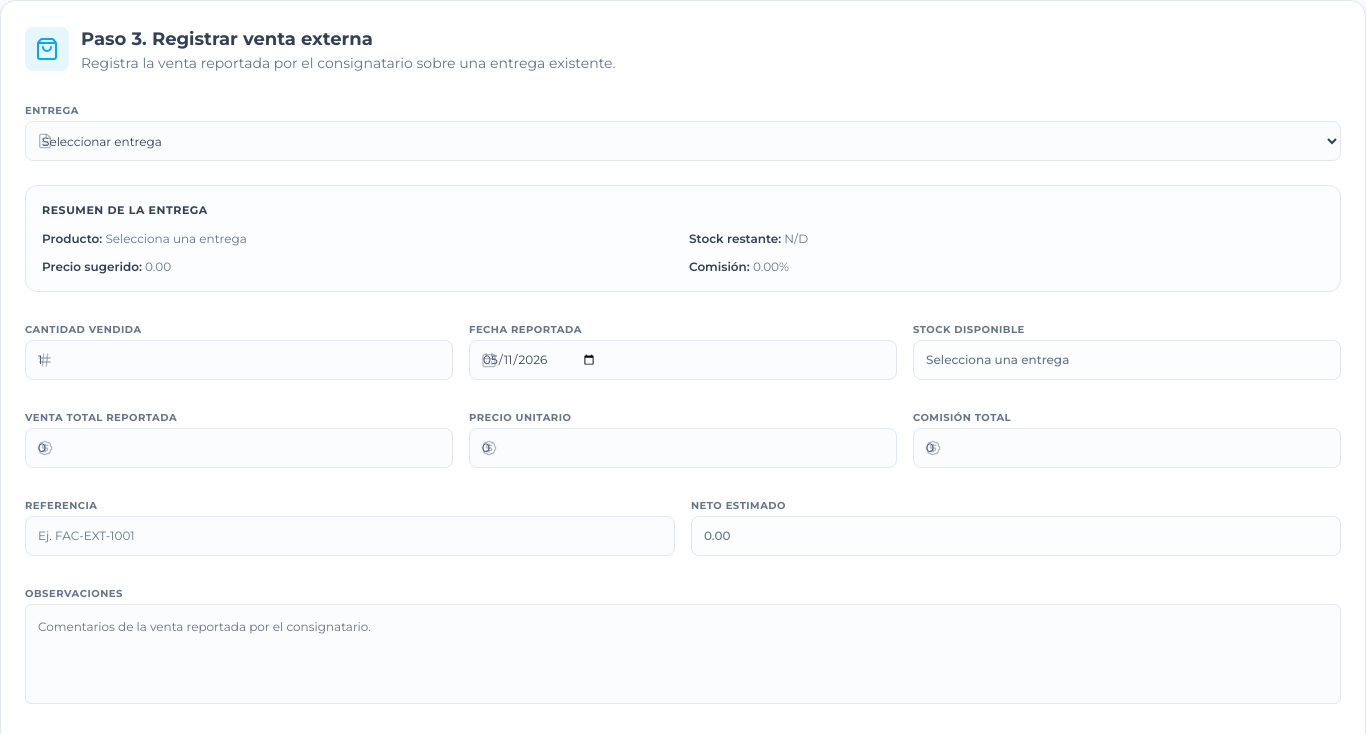
Scenario: CreateExternalConsignmentSaleForm › loads product, price, total sale and commission after selecting a delivery
Select "delivery-1 - Stock restante: 8" in the dropdown labelled "Entrega" at [683, 141], box [25,121,1341,161]
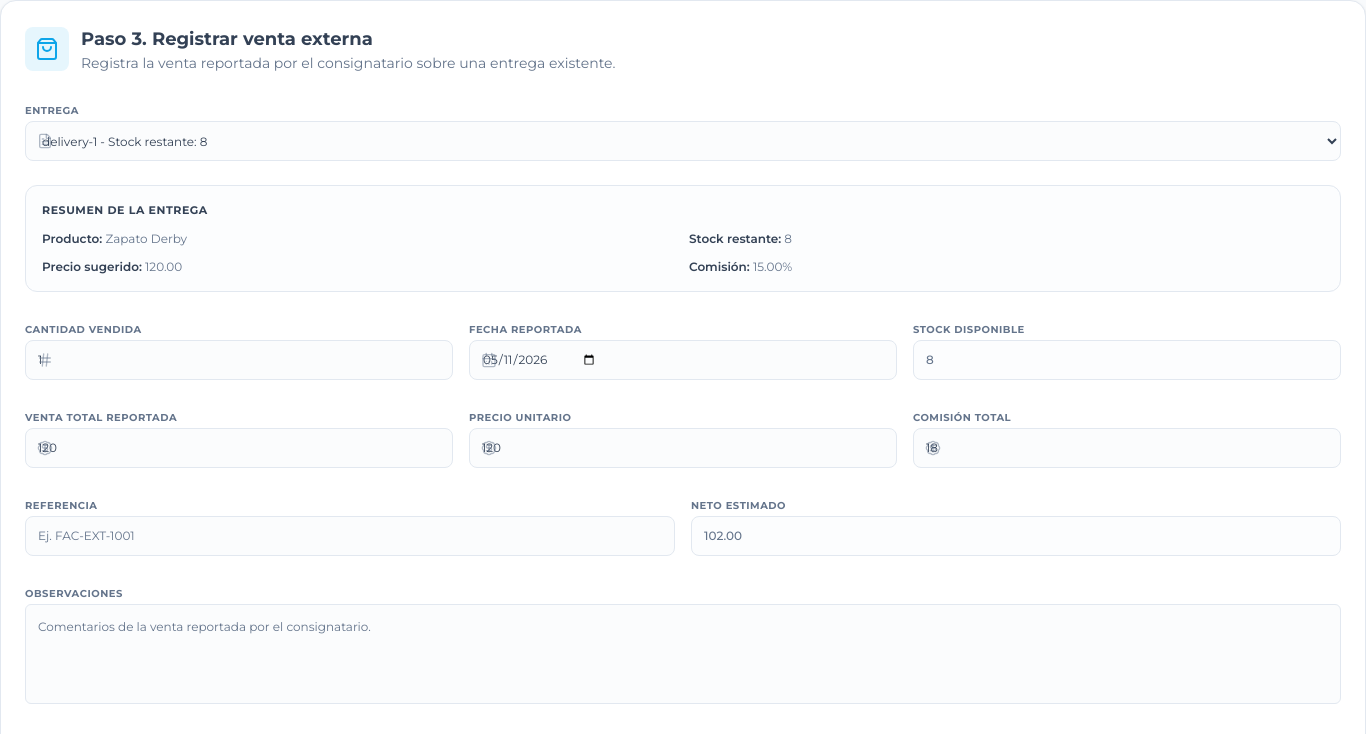
Expected: the text "Zapato Derby" is shown, [105,230,187,246]
Expected: the text "15.00%" is shown, [753,258,792,274]
Expected: the number field labelled "Precio Unitario" holds "120", [469,428,897,468]
